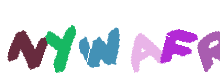A: (69, 0, 149, 80)
F: (98, 0, 178, 80)
N: (0, 0, 80, 80)
R: (139, 0, 219, 80)
W: (60, 0, 140, 80)
Y: (21, 0, 101, 80)
